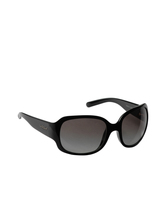glasses: (12, 98, 153, 153)
